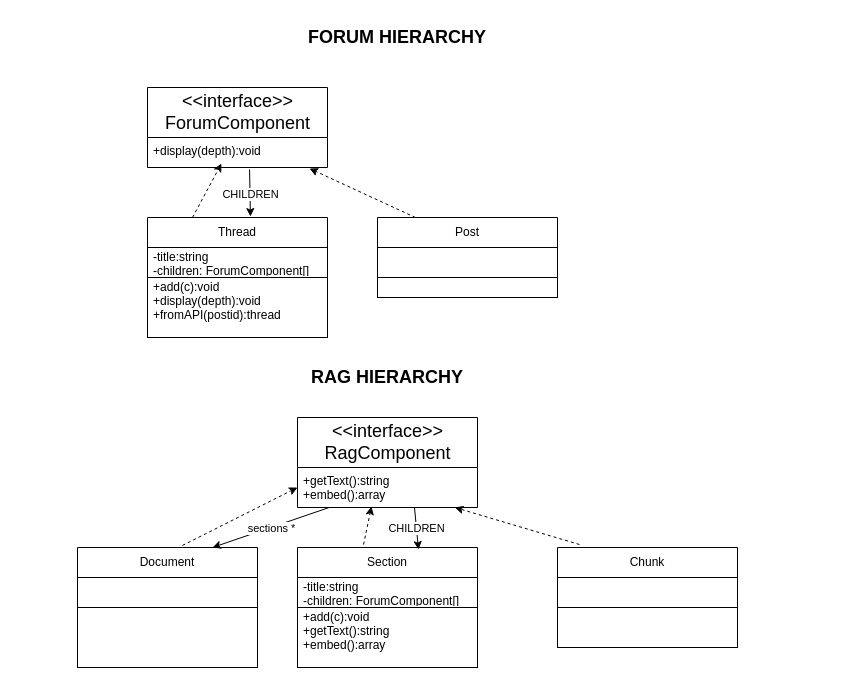
Some shapes in this 862 by 685 pixel diagram are drawn without their labels. The centre of each missing label's shape, as x and y in pixels:
"+add(s):void +getText():string +embed():array" belongs at [167,637].
"+display(depth):void" belongs at [467,287].
"+getText():string +embed():array" belongs at [647,627].
"-author: string -message:string" belongs at [467,262].
"-text:string" belongs at [647,592].
"-title:string -sections:RagComponent[]" belongs at [167,592].
